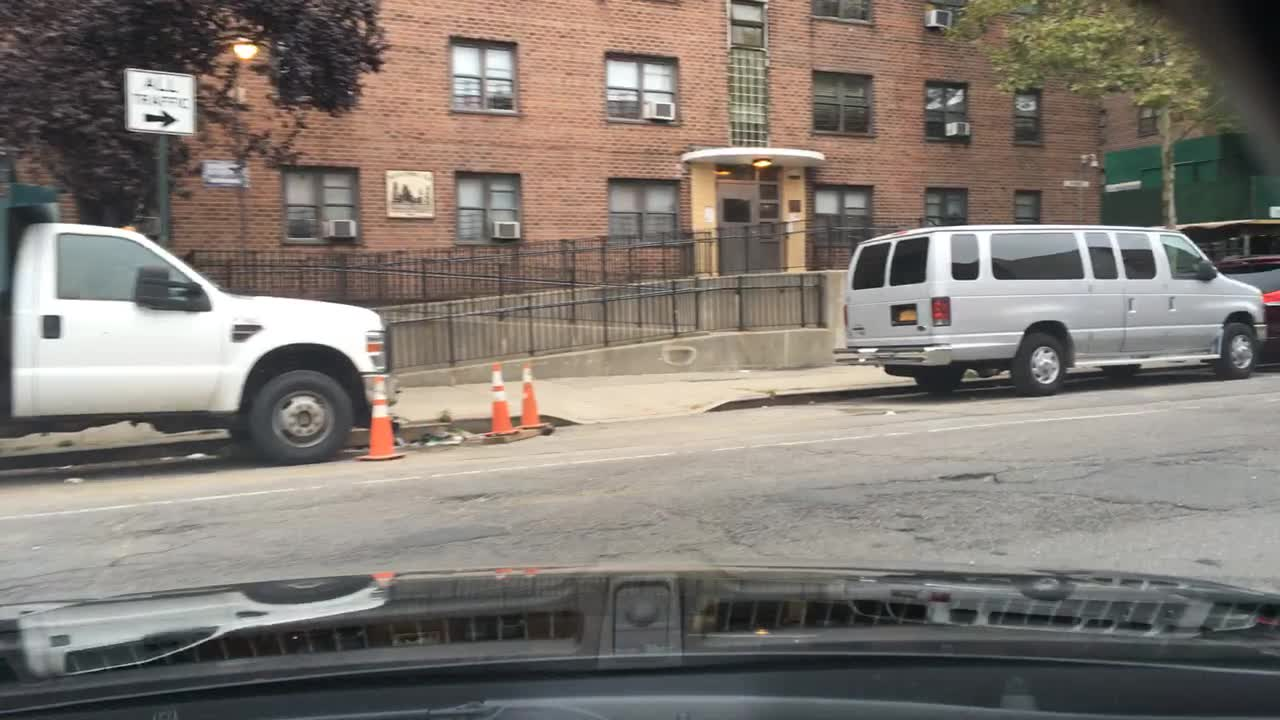car: (0, 182, 386, 458), (829, 221, 1268, 393), (1214, 255, 1277, 363)
traffic sign: (121, 68, 199, 136)
